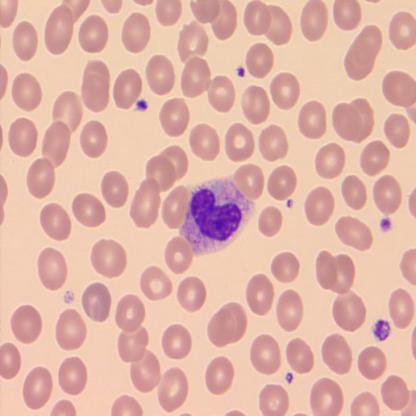Metamyelocyte: (177, 176, 257, 258)
